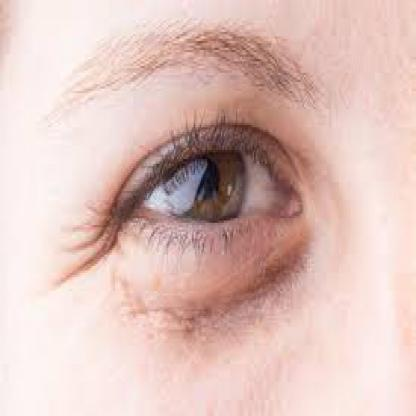darkspot: (306, 16, 414, 348), (186, 193, 379, 305), (76, 240, 152, 308), (118, 149, 138, 193)
